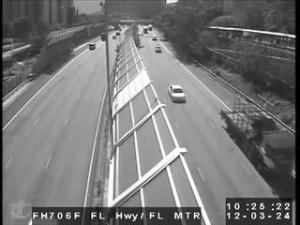truck: (220, 97, 296, 183), (89, 43, 95, 50), (102, 33, 107, 41)
vehicle: (168, 85, 186, 103), (154, 44, 162, 52), (89, 43, 95, 50), (153, 36, 158, 40), (144, 29, 148, 34), (148, 26, 152, 31), (116, 32, 120, 36), (112, 37, 116, 40)
